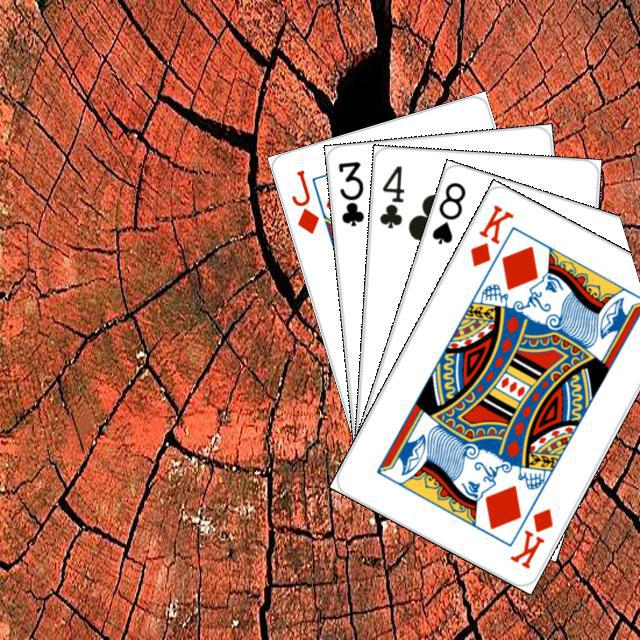3c: (333, 156, 366, 229)
4c: (374, 161, 406, 230)
8s: (426, 177, 468, 246)
Jd: (286, 164, 321, 236)
Kd: (465, 199, 516, 269), (505, 503, 555, 571)
